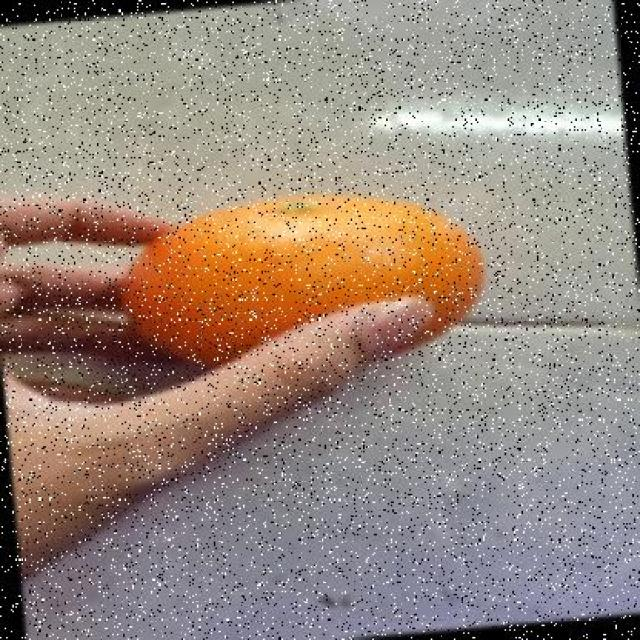Orange: (119, 191, 486, 369)
